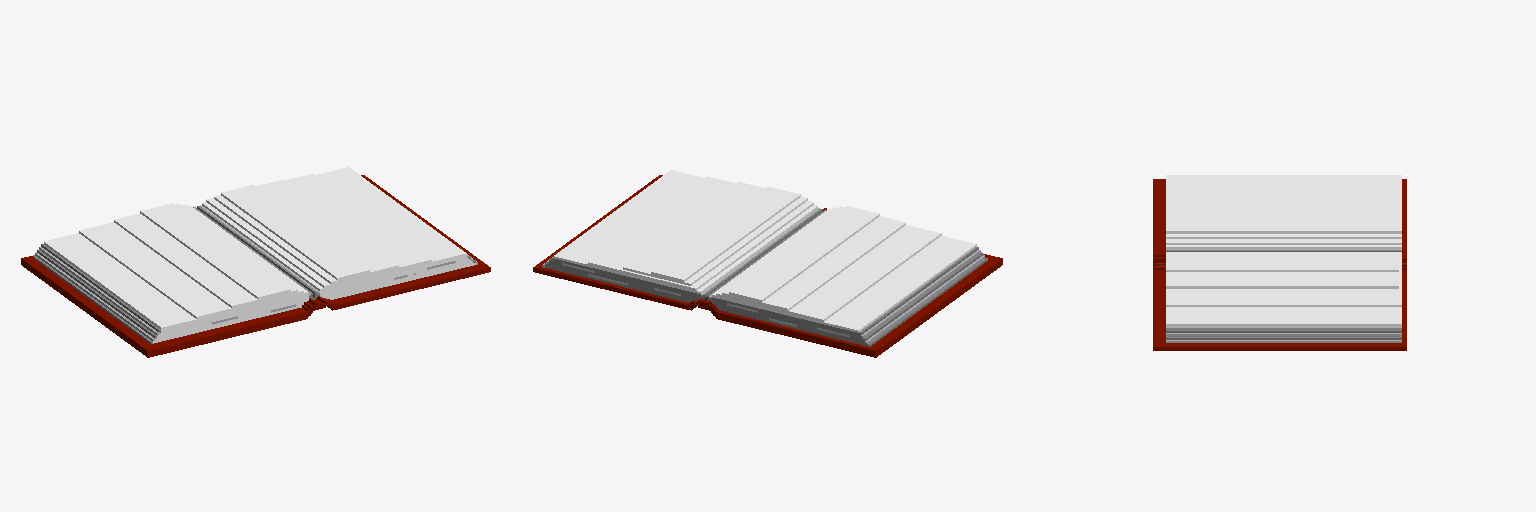
3 views of the same model, side by side, from view 1: azimuth 30°, elevation 25°; view 2: azimuth 150°, elevation 25°; view 3: azimuth 270°, elevation 25° (orthographic).
Parts seen in each view (by area): view 1: object 1; view 2: object 1; view 3: object 1.
Part boxes in pixels (bbox=[...]): object 1: bbox=[21, 167, 490, 357]; object 1: bbox=[533, 170, 1002, 357]; object 1: bbox=[1153, 175, 1406, 350].
Size of the model in its own units: 15.6 by 1.2 by 10.
Materials: 1 (1 with a texture image).